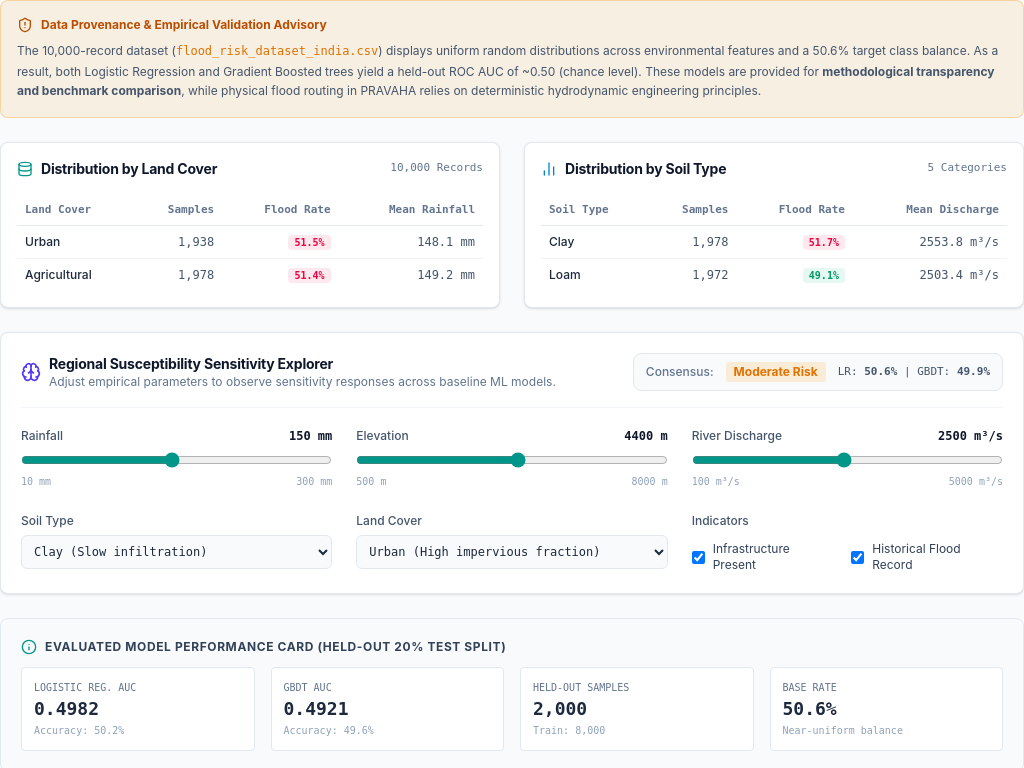
Test: RegionalFactorsView Component › responds to slider adjustments and recomputes sensitivity
expect the heading "Regional Susceptibility Sensitivity Explorer" is shown: met, box [49,355,333,372]
Note: Adjust rainfall slider
Set the slider below "150" to "250" at point(273, 460), box [21,452,332,468]
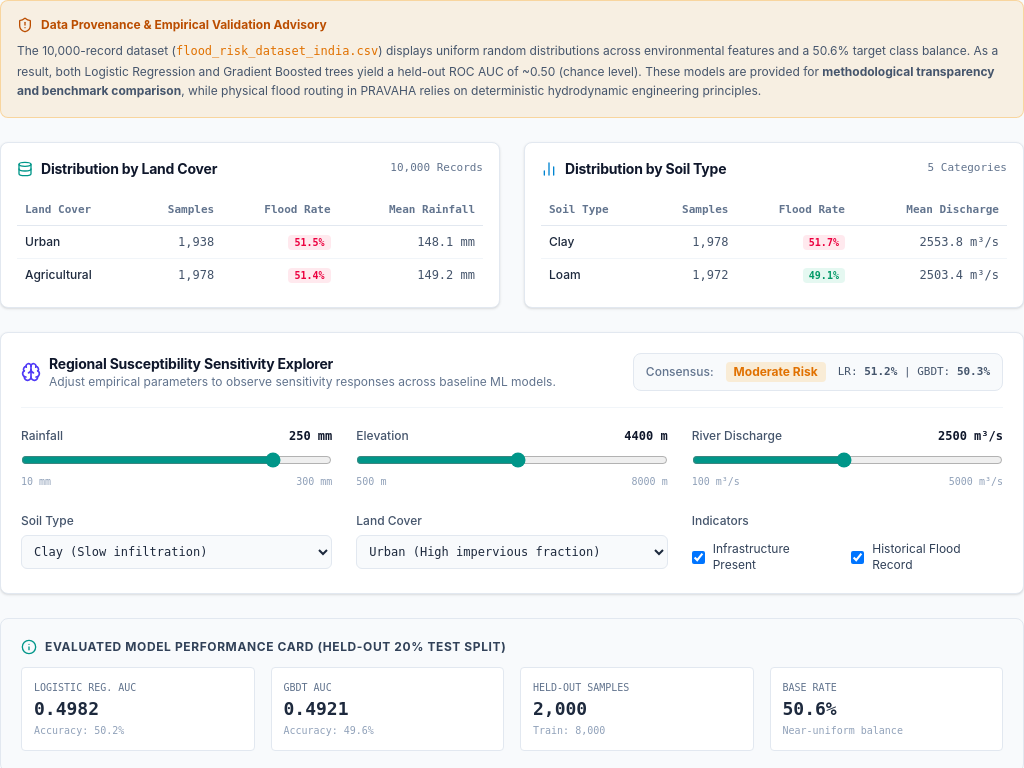
expect the text "250 mm" is shown: met, box [289,428,332,444]
